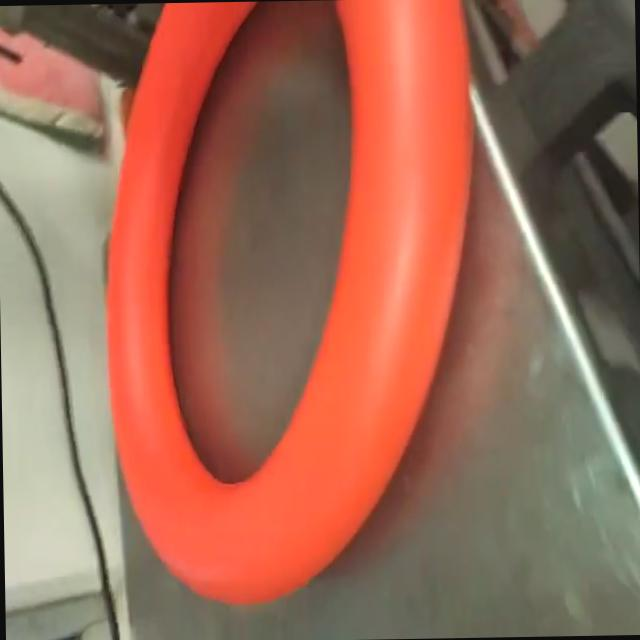note: (97, 0, 483, 607)
